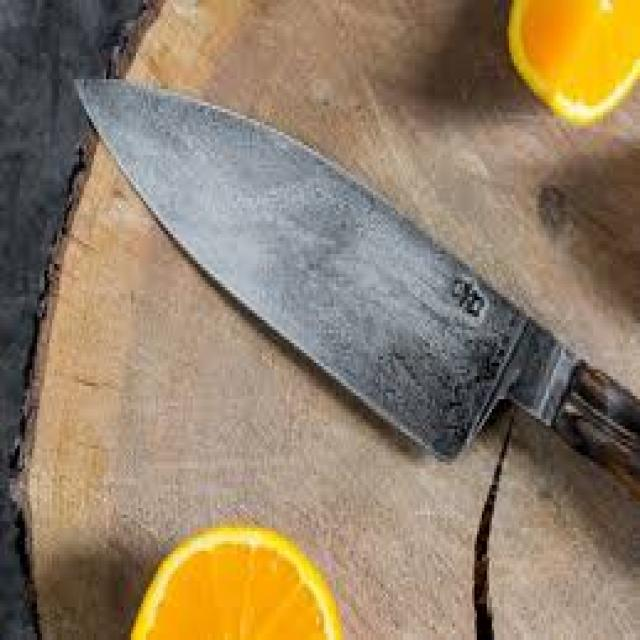Knife: (48, 33, 635, 542)
